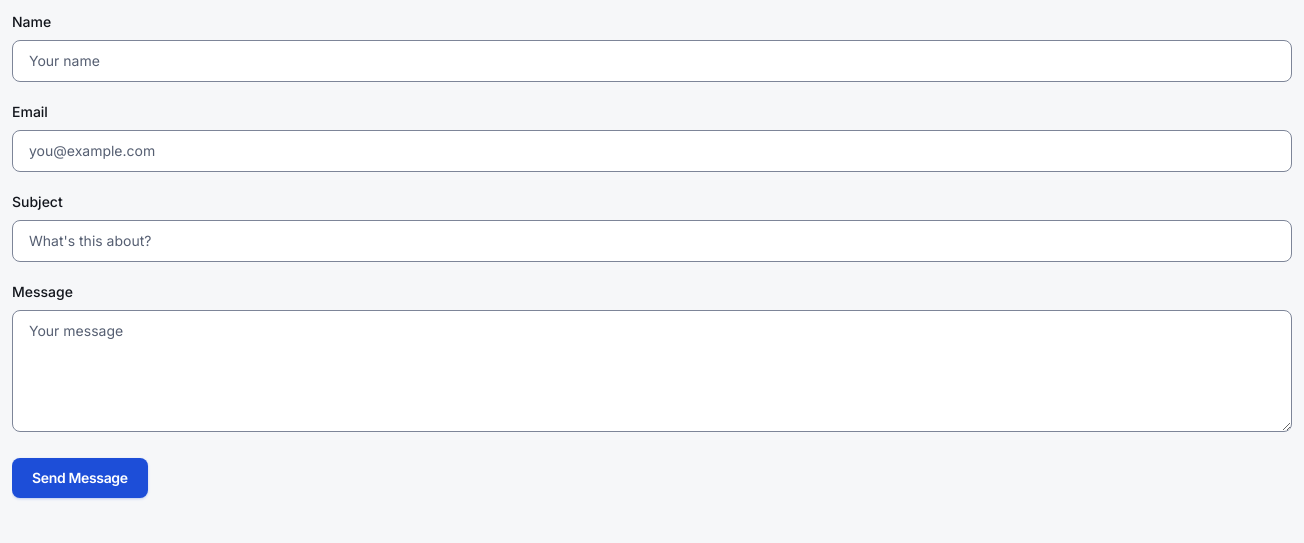
Test: ContactForm › rejects a message that's too short to be useful, even though it's non-empty
Type "Jordan Rivera" into the field labelled "Name".
click(652, 61); type("Jordan Rivera")  # box left=12, top=40, right=1292, bottom=82
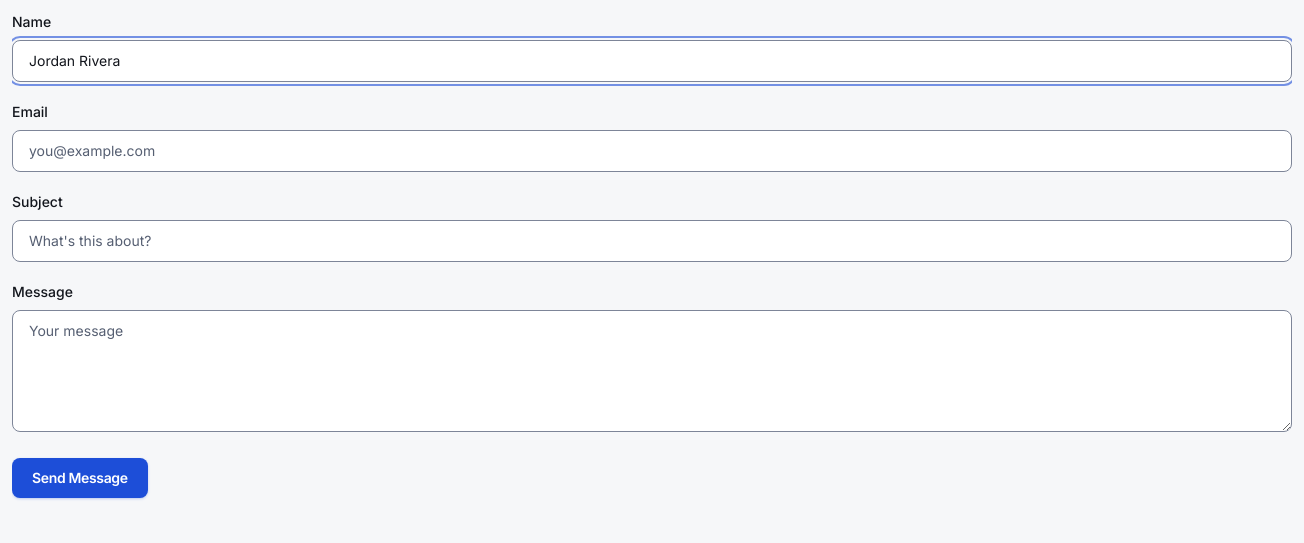
Type "jordan@example.com" into the field labelled "Email".
click(652, 151); type("jordan@example.com")  # box left=12, top=130, right=1292, bottom=172
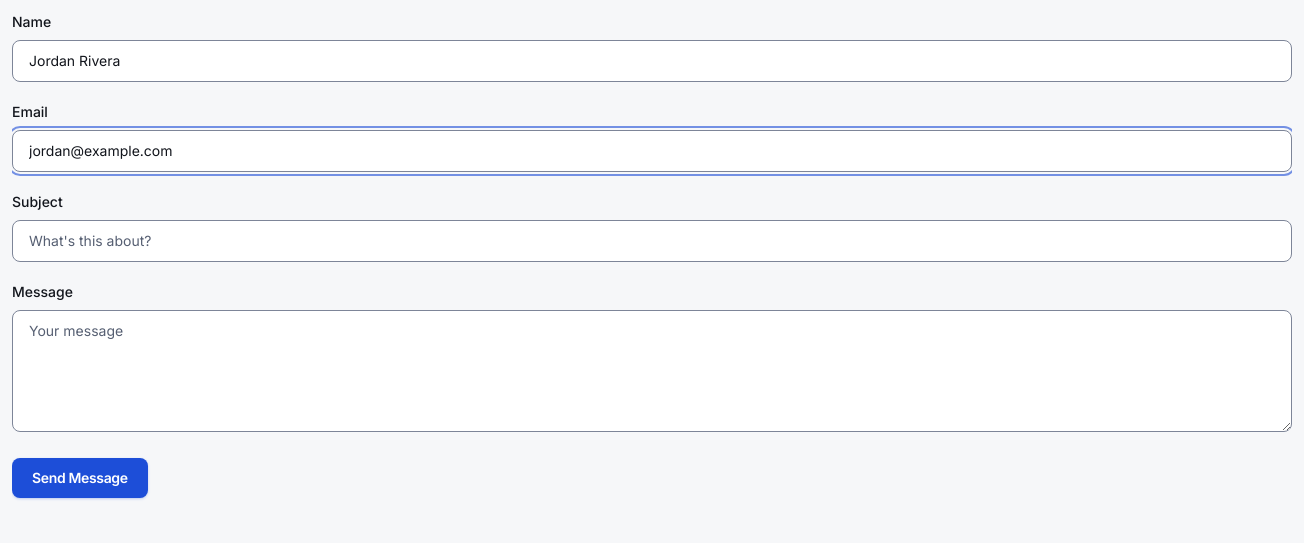
Type "Hi" into the field labelled "Subject".
click(652, 241); type("Hi")  # box left=12, top=220, right=1292, bottom=262
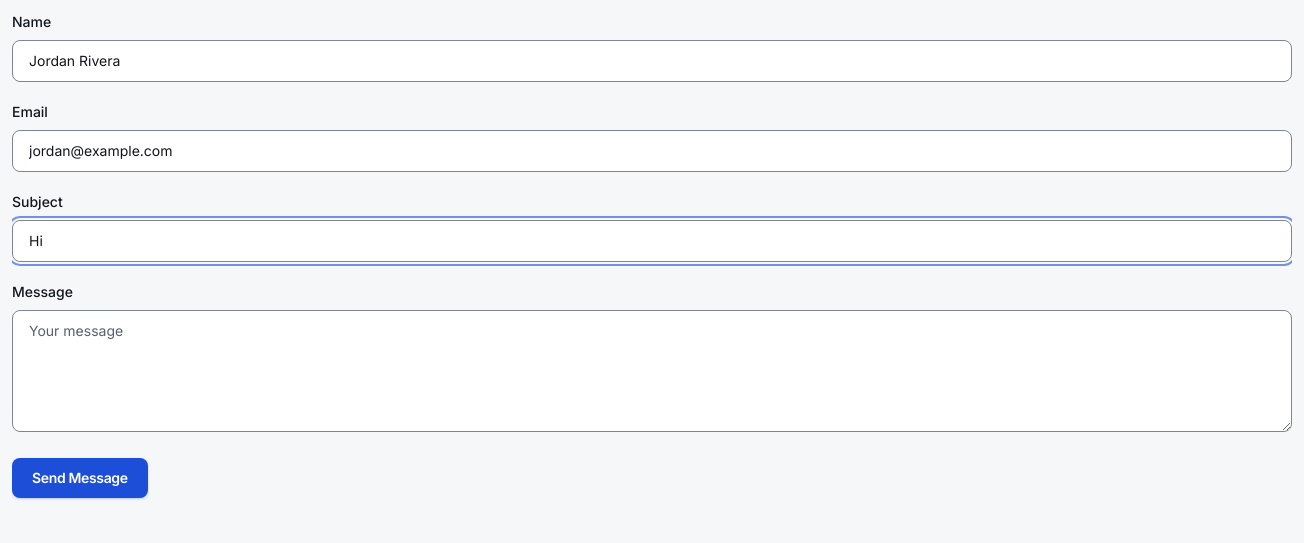
Type "Hey!" into the text box labelled "Message".
click(652, 371); type("Hey!")  # box left=12, top=310, right=1292, bottom=432
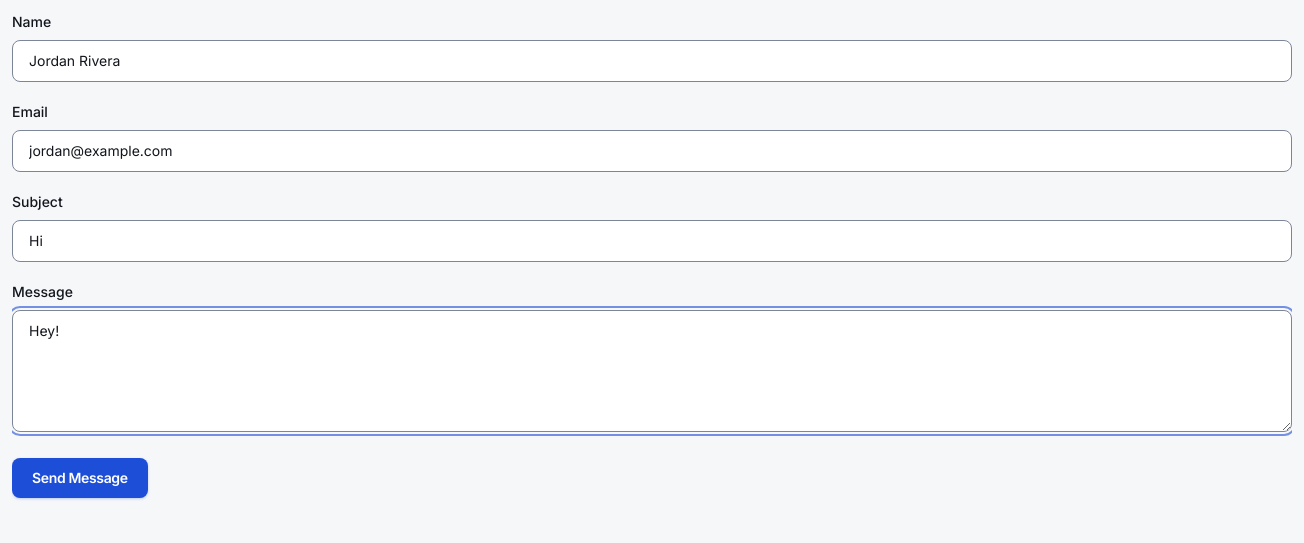
Click the button "Send Message".
click(80, 478)  # box left=12, top=458, right=148, bottom=498
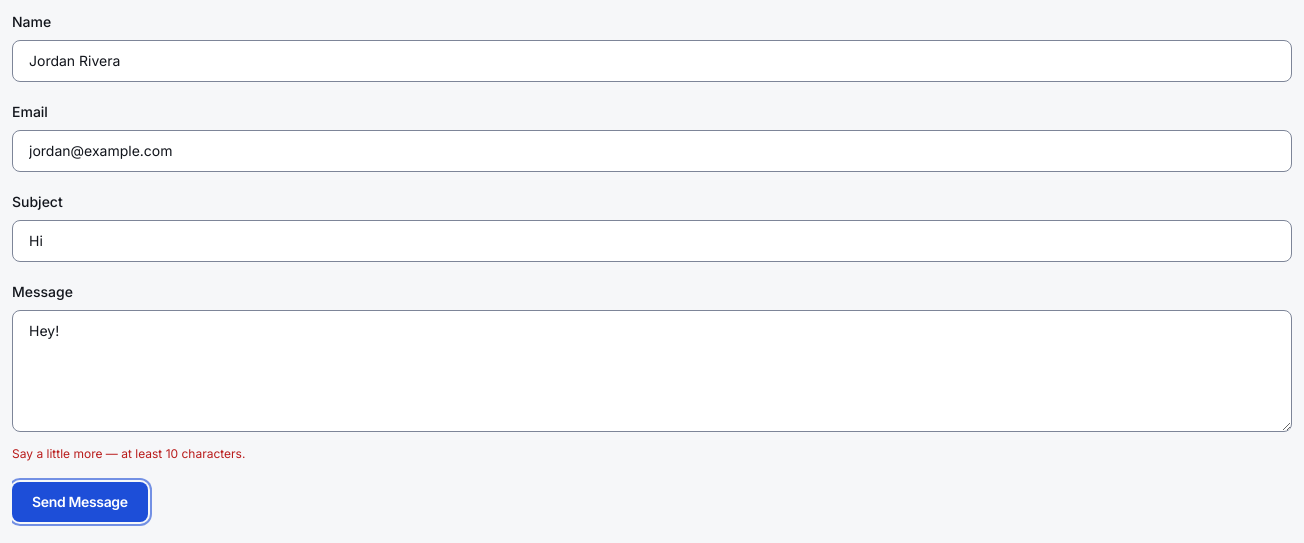
Result: the text "Say a little more — at least 10 characters." is shown at left=12, top=446, right=245, bottom=461
